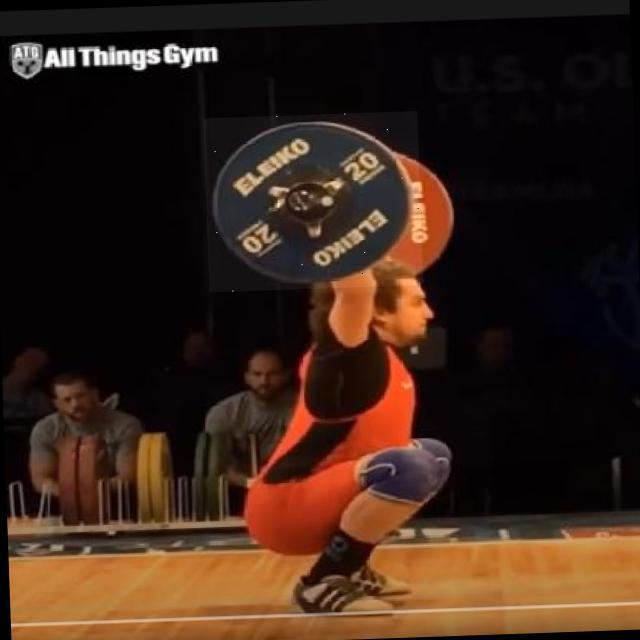barbell: (204, 112, 424, 293)
